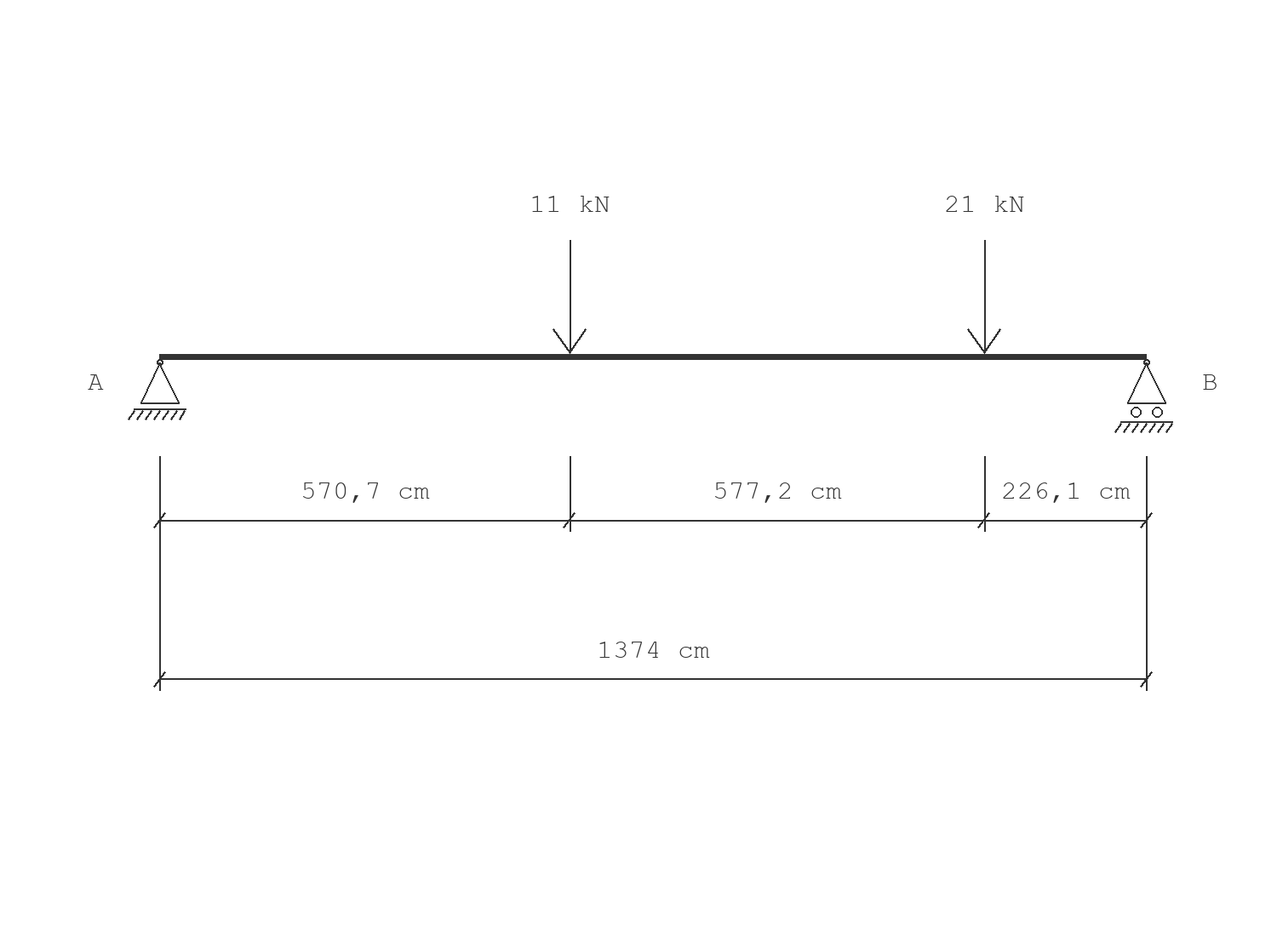pin_support: (128, 359, 186, 420)
point_load: (553, 240, 587, 354), (967, 240, 1001, 354)
roller_support: (1114, 359, 1173, 433)
